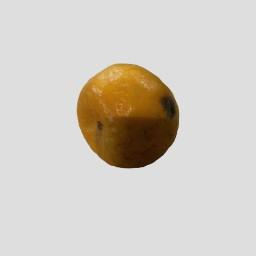Unripe: (77, 65, 179, 169)
